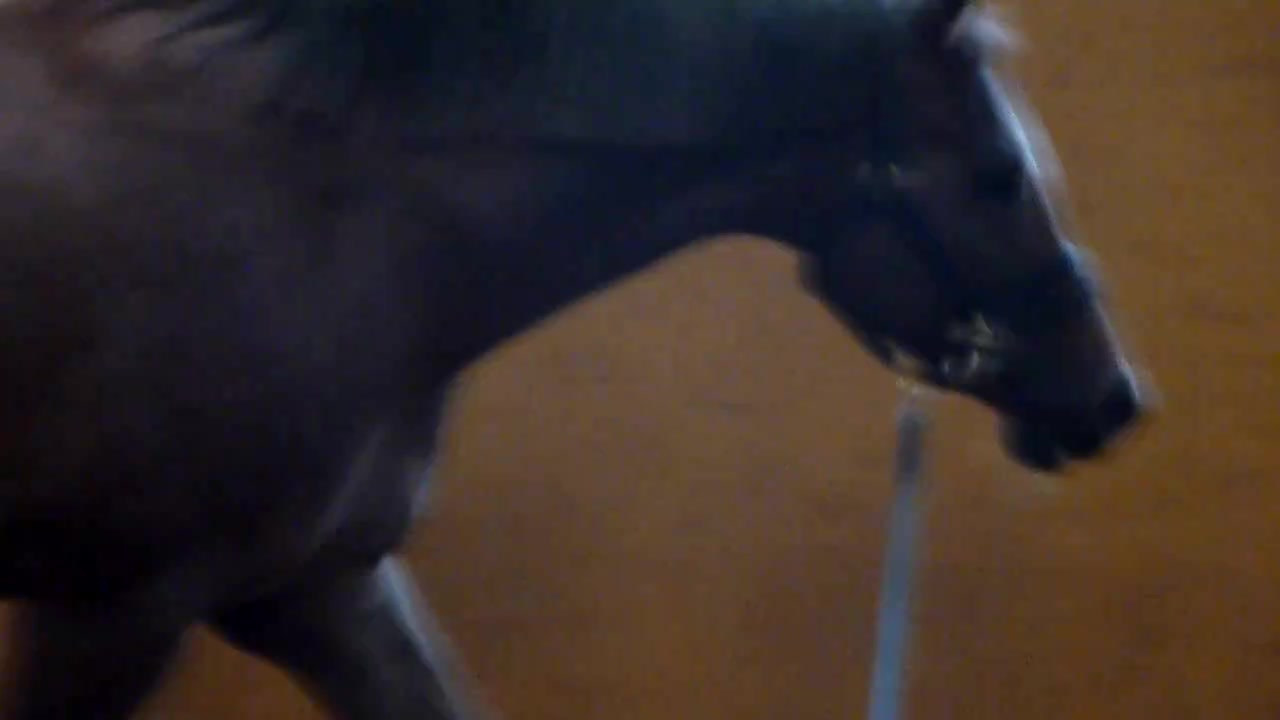horse: (1, 3, 1150, 720)
